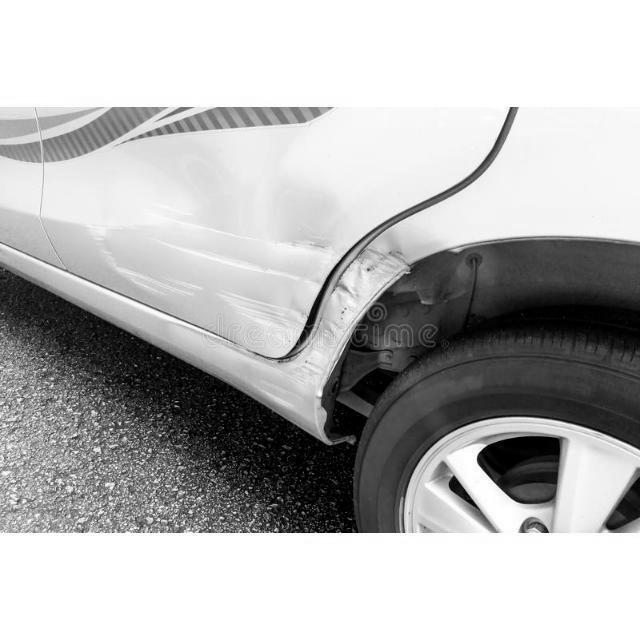doorouter-dent: (45, 108, 314, 359)
quaterpanel-dent: (317, 233, 544, 456)
